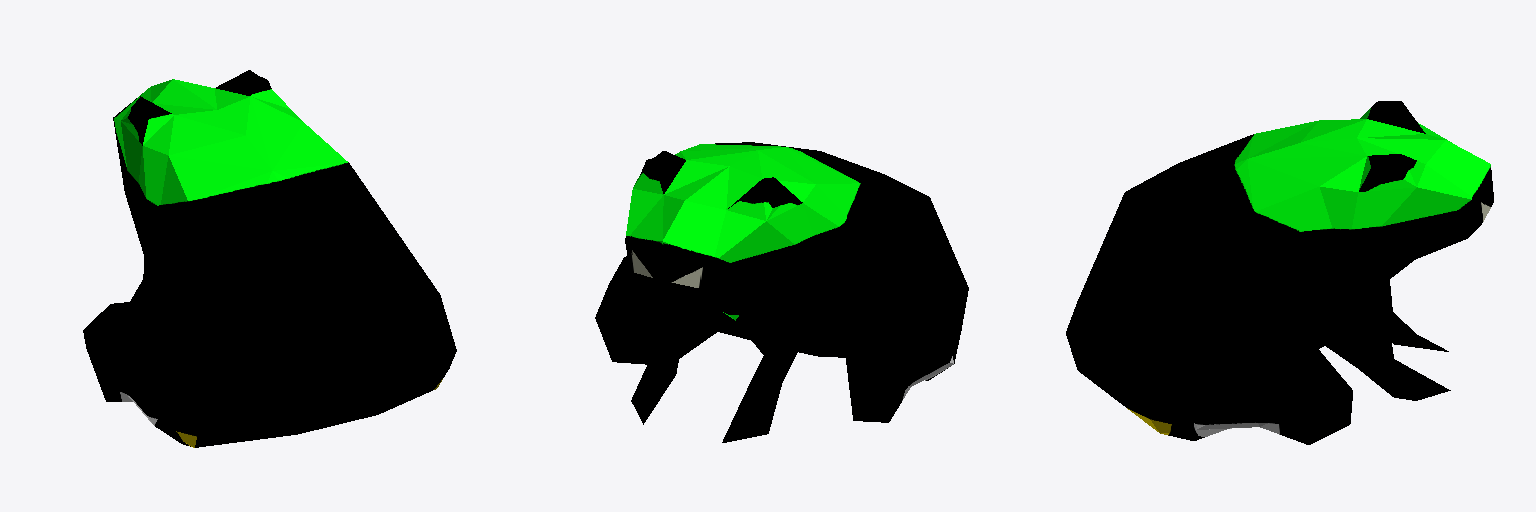
The picture shows the model from 3 angles: view 1: azimuth 30°, elevation 25°; view 2: azimuth 150°, elevation 25°; view 3: azimuth 270°, elevation 25°; orthographic projection.
Visible parts, largest first — view 1: frog:Mesh; view 2: frog:Mesh; view 3: frog:Mesh.
Boxes of the visible parts, box(x1,y1,x2,y2) form: frog:Mesh: box(83, 70, 456, 447); frog:Mesh: box(595, 142, 968, 442); frog:Mesh: box(1066, 101, 1493, 444).
Size of the model in its own units: 1.92 by 1.57 by 2.38.
1 materials, 1 textured.